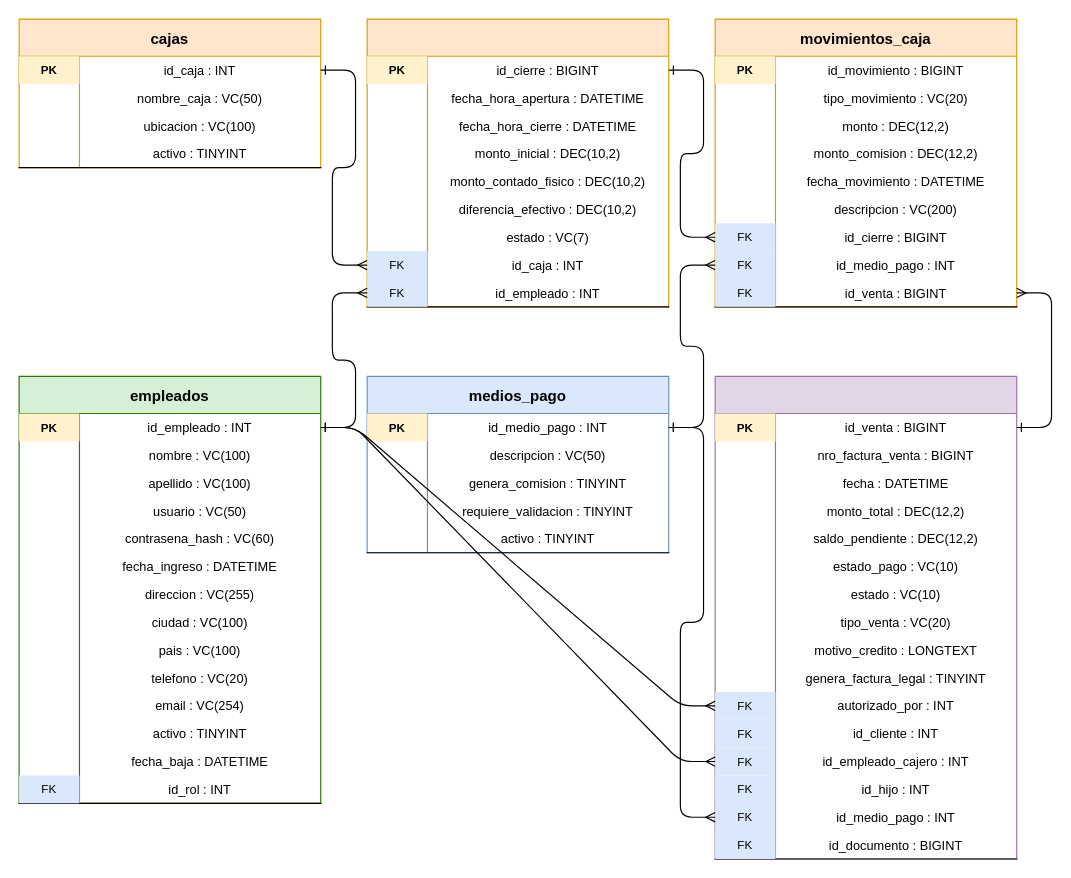
The diagram is 1071 pixels wide and 878 high, and some of its shapes have lost their labels. The shapes that lost their labels are listed below. From the top down, each one's box as (x1, y1, x2, y2) in pixels, then its label:
(366, 18, 669, 307): cierres_caja
(714, 375, 1017, 859): ventas
